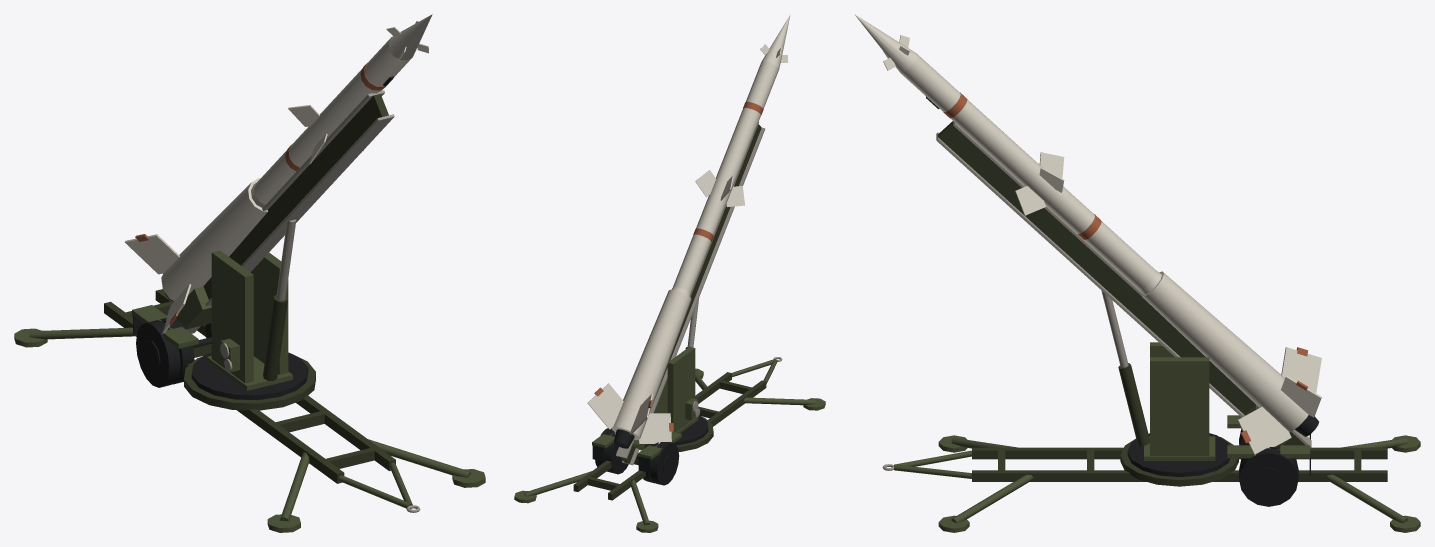
File: sa-2-guideline-surface.glb
The picture shows the model from 3 angles, left to right: view 1: azimuth 30°, elevation 25°; view 2: azimuth 150°, elevation 25°; view 3: azimuth 270°, elevation 25°; orthographic projection. The views are drawn at different scales.
Visible parts, largest first — view 1: Mesh_SustainBody, Mesh_PedestalLeft, Mesh_BoosterBody, Mesh_RailWeb, Mesh_PedestalRight, Mesh_RailFlangeBot, Mesh_Turntable, Mesh_BeamL, Mesh_BasePlate, Mesh_TireLO, Mesh_BeamR, Mesh_HydraSleeve (+12 smaller); view 2: Mesh_SustainBody, Mesh_BoosterBody, Mesh_PedestalLeft, Mesh_RailFlangeBot, Mesh_RailWeb, Mesh_BeamL, Mesh_BoosterFin_3, Mesh_TireLO, Mesh_BoosterFin_1, Mesh_BeamR, Mesh_NoseCone, Mesh_Turntable (+5 smaller); view 3: Mesh_SustainBody, Mesh_RailWeb, Mesh_BoosterBody, Mesh_PedestalRight, Mesh_BeamR, Mesh_BeamL, Mesh_TireRO, Mesh_Turntable, Mesh_RailFlangeBot, Mesh_BoosterFin_2, Mesh_BasePlate, Mesh_BoosterFin_0 (+8 smaller).
Boxes of the visible parts, bbox=[...] form: Mesh_SustainBody: bbox=[254, 38, 412, 204]; Mesh_PedestalLeft: bbox=[211, 250, 253, 383]; Mesh_BoosterBody: bbox=[161, 178, 267, 300]; Mesh_RailWeb: bbox=[176, 94, 388, 320]; Mesh_PedestalRight: bbox=[250, 252, 288, 374]; Mesh_RailFlangeBot: bbox=[186, 114, 394, 333]; Mesh_Turntable: bbox=[191, 352, 308, 399]; Mesh_BeamL: bbox=[104, 301, 344, 483]; Mesh_BasePlate: bbox=[184, 353, 315, 410]; Mesh_TireLO: bbox=[136, 320, 180, 387]; Mesh_BeamR: bbox=[155, 289, 395, 470]; Mesh_HydraSleeve: bbox=[263, 295, 287, 380]; Mesh_SustainBody: bbox=[673, 61, 779, 293]; Mesh_BoosterBody: bbox=[611, 289, 691, 439]; Mesh_PedestalLeft: bbox=[667, 346, 695, 432]; Mesh_RailFlangeBot: bbox=[622, 127, 765, 465]; Mesh_RailWeb: bbox=[620, 124, 761, 463]; Mesh_BeamL: bbox=[608, 380, 766, 500]; Mesh_BoosterFin_3: bbox=[587, 383, 623, 429]; Mesh_TireLO: bbox=[650, 442, 679, 485]; Mesh_BoosterFin_1: bbox=[638, 413, 671, 443]; Mesh_BeamR: bbox=[573, 372, 731, 491]; Mesh_NoseCone: bbox=[762, 14, 790, 68]; Mesh_Turntable: bbox=[674, 415, 708, 444]; Mesh_SustainBody: bbox=[901, 54, 1156, 290]; Mesh_RailWeb: bbox=[938, 121, 1305, 458]; Mesh_BoosterBody: bbox=[1142, 271, 1308, 432]; Mesh_PedestalRight: bbox=[1150, 357, 1209, 455]; Mesh_BeamR: bbox=[972, 470, 1387, 481]; Mesh_BeamL: bbox=[972, 447, 1387, 459]; Mesh_TireRO: bbox=[1239, 448, 1298, 506]; Mesh_Turntable: bbox=[1127, 433, 1230, 477]; Mesh_RailFlangeBot: bbox=[936, 132, 1244, 417]; Mesh_BoosterFin_2: bbox=[1237, 406, 1291, 455]; Mesh_BasePlate: bbox=[1120, 437, 1238, 486]; Mesh_BoosterFin_0: bbox=[1281, 347, 1321, 392].
Size of the model in its own units: 3.72 by 8.78 by 9.54.
Materials: 4 (4 with a texture image).
